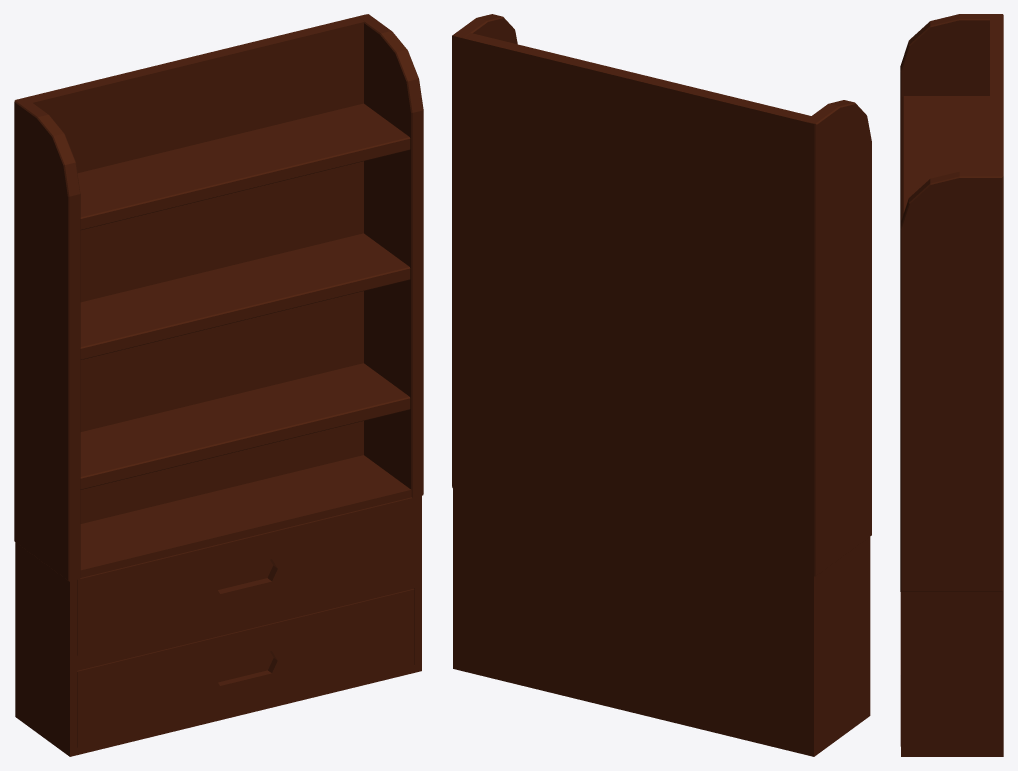
Rendered from SmallBookShelf1.glb.
The picture shows the model from 3 angles, left to right: view 1: azimuth 30°, elevation 25°; view 2: azimuth 150°, elevation 25°; view 3: azimuth 270°, elevation 25°; orthographic projection. The views are drawn at different scales.
Parts seen in each view (by area): view 1: SmallBookShelf1, Drawer1_SmallBookShelf1, Drawer2_SmallBookShelf1; view 2: SmallBookShelf1; view 3: SmallBookShelf1.
Part boxes in pixels (x1,y1,x2,y2): SmallBookShelf1: (14,14,423,756); Drawer1_SmallBookShelf1: (77,497,414,655); Drawer2_SmallBookShelf1: (77,589,414,747); SmallBookShelf1: (452,14,871,756); SmallBookShelf1: (900,14,1003,756).
Bounding box in the file's own units: 1.27 × 2.1 × 0.339.
